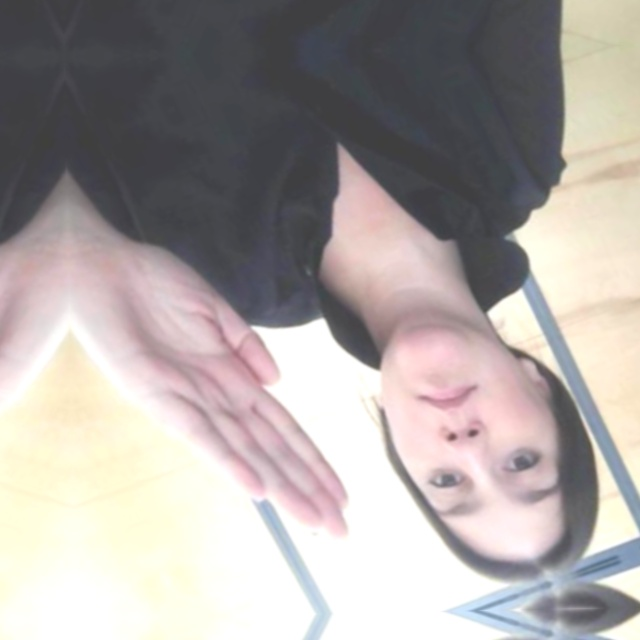Paper: (67, 187, 383, 599)
